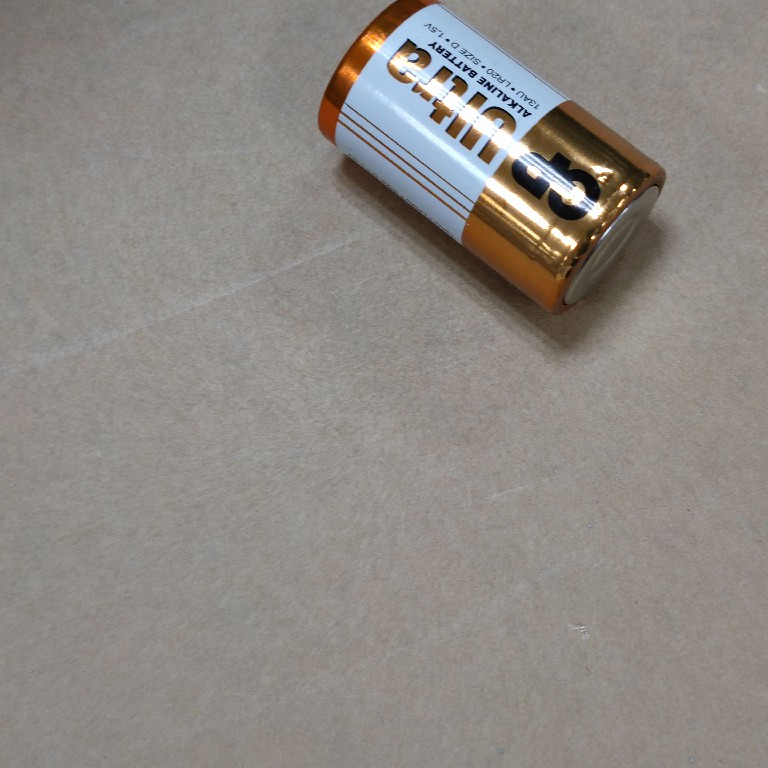charge: (308, 1, 672, 322)
